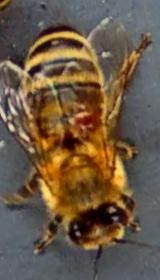varroa_mite: (67, 108, 107, 140)
